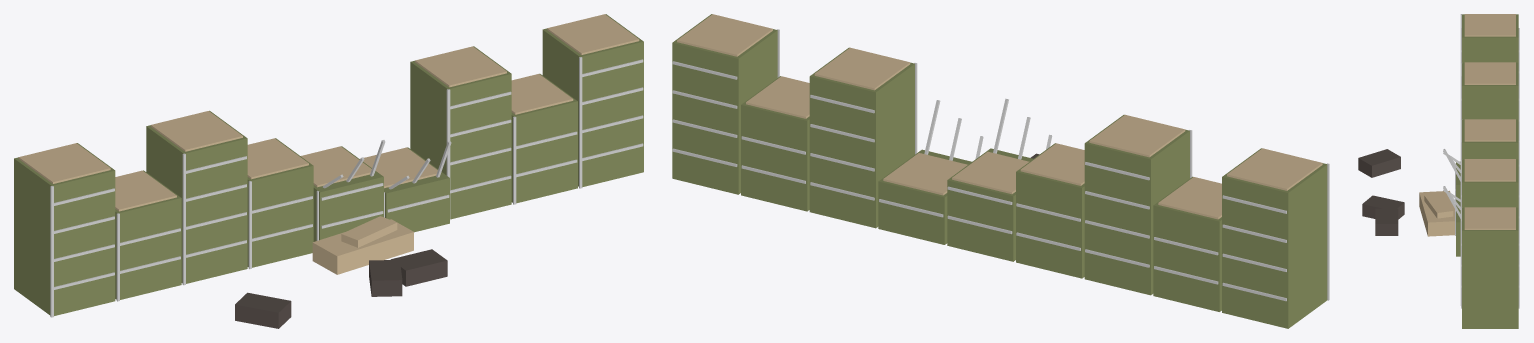
Rendered from SM_MuroHesco_v2_Escalonado_e1_Danado_LOD0.fbx.
The picture shows the model from 3 angles, left to right: view 1: azimuth 30°, elevation 25°; view 2: azimuth 150°, elevation 25°; view 3: azimuth 270°, elevation 25°; orthographic projection. The views are drawn at different scales.
Visible parts, largest first — view 1: SM_bloques.muro_hesco_estados_v9_LOD0; view 2: SM_bloques.muro_hesco_estados_v9_LOD0; view 3: SM_bloques.muro_hesco_estados_v9_LOD0.
Part boxes in pixels (x1,y1,x2,y2): SM_bloques.muro_hesco_estados_v9_LOD0: (14,14,643,328); SM_bloques.muro_hesco_estados_v9_LOD0: (672,14,1329,328); SM_bloques.muro_hesco_estados_v9_LOD0: (1358,14,1519,328).
Bounding box in the file's own units: 9.98 × 2.13 × 3.14.
